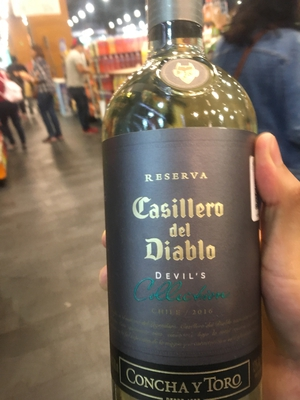casillero del diablo devils collection verde: (91, 1, 268, 400)
